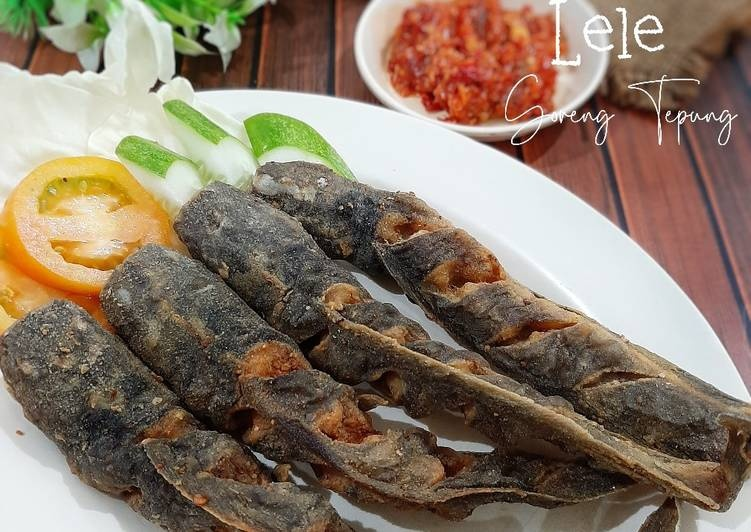pecel_lele: (257, 158, 574, 400), (92, 242, 383, 485), (169, 176, 416, 413)
